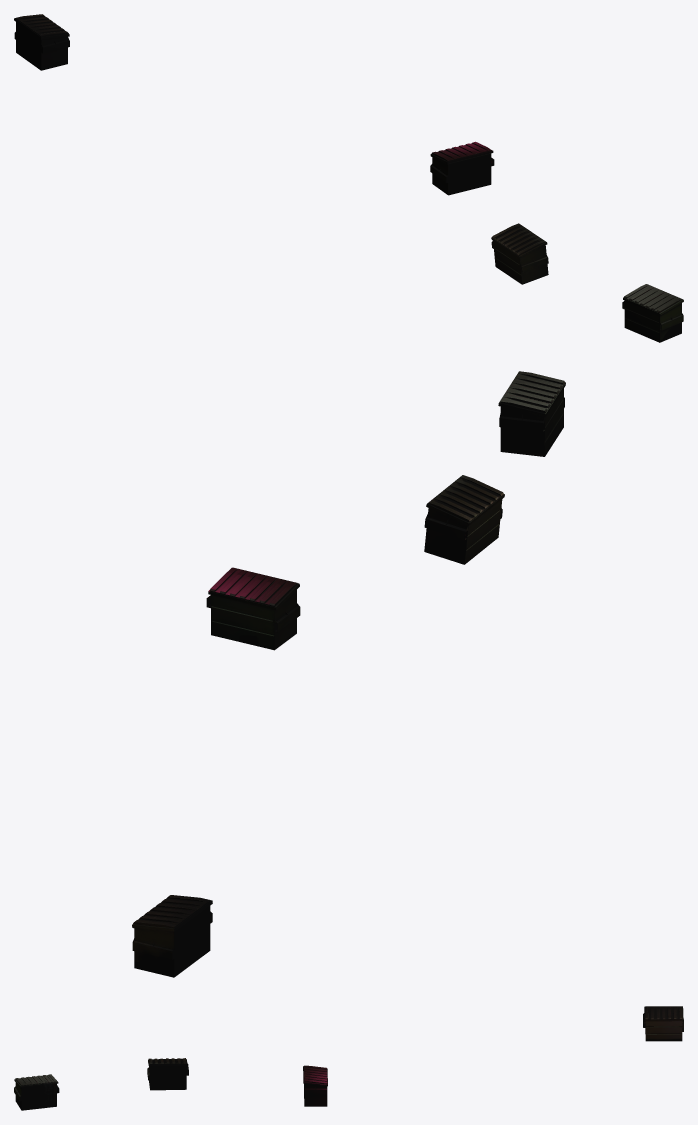
3 renders of one model, top to bottom at view 1: azimuth 30°, elevation 25°; view 2: azimuth 150°, elevation 25°; view 3: azimuth 270°, elevation 25°, orthographic. The views are drawn at different scales.
Visible parts, largest first — view 1: DustBox; view 2: DustBox; view 3: DustBox.
Part boxes in pixels (x1,y1,x2,y2): DustBox: [14, 14, 683, 342]; DustBox: [132, 371, 565, 977]; DustBox: [14, 1006, 683, 1110].
Size of the model in its own units: 10.24 by 1.83 by 36.64.
1 material, 1 textured.
